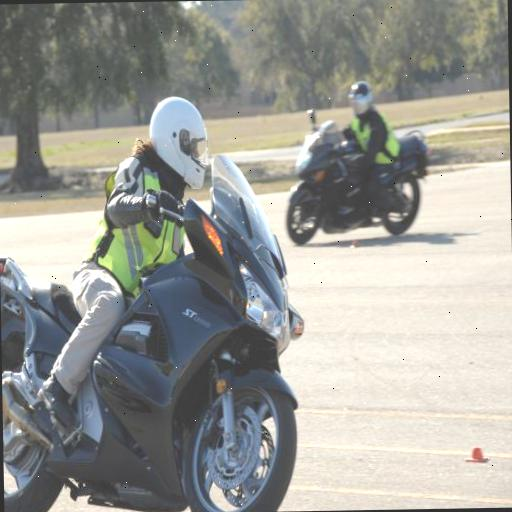helmet: (68, 74, 247, 494), (294, 67, 398, 233)
